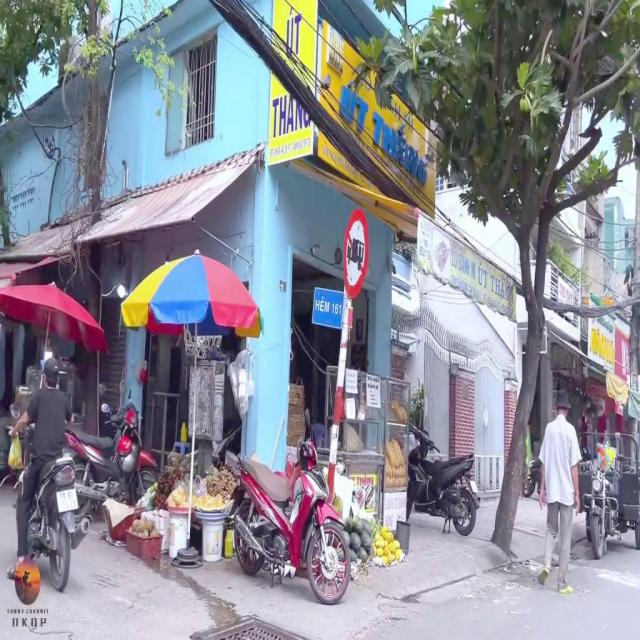cam_o_to_tai: (344, 208, 372, 299)
